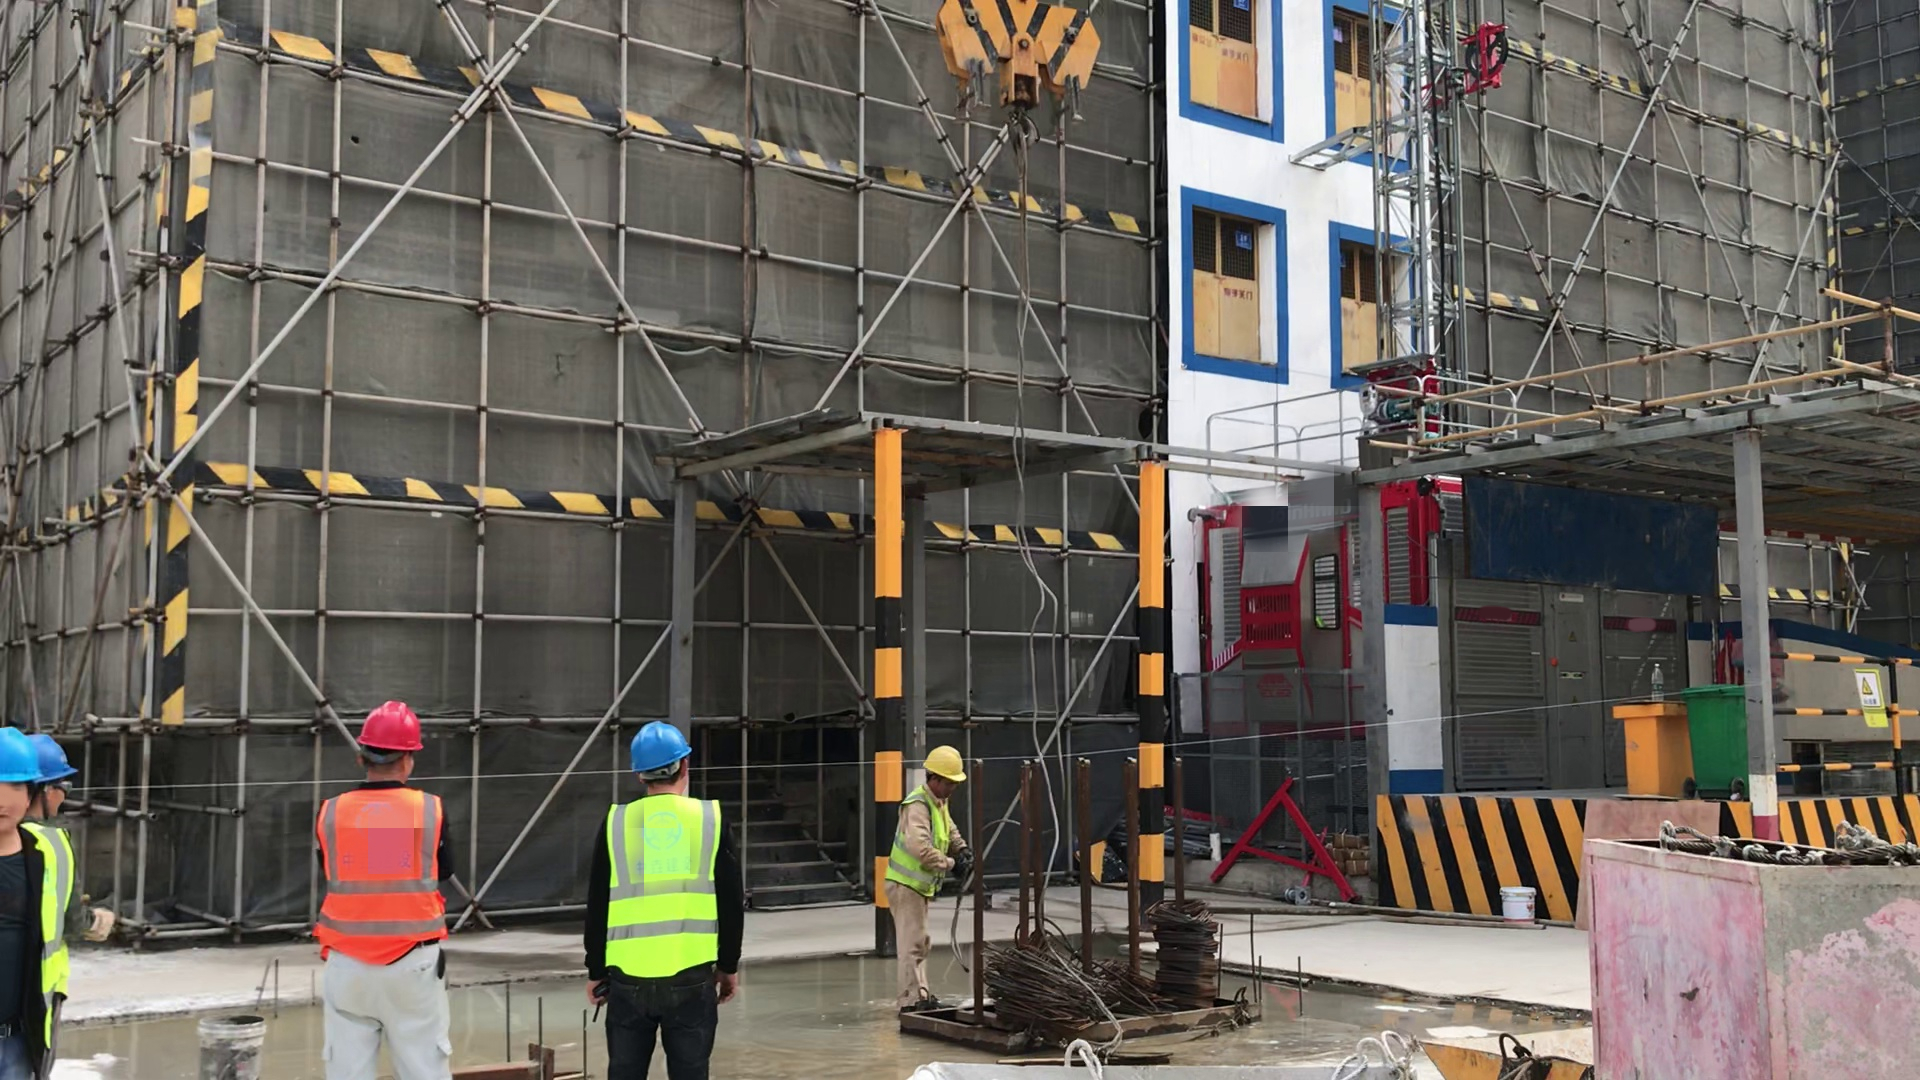ebox: (1617, 701, 1683, 793)
helmet: (356, 699, 423, 754), (630, 722, 692, 770), (27, 730, 77, 781), (1, 724, 42, 784), (925, 744, 965, 782)
hook: (939, 1, 1102, 151)
hopper: (1442, 1019, 1597, 1077)
person: (312, 696, 453, 1080), (589, 723, 735, 1080), (2, 727, 58, 1080), (894, 743, 959, 1018), (29, 733, 69, 1064)
slogan: (1850, 668, 1883, 724)
vest: (324, 789, 440, 965), (609, 801, 720, 973), (898, 797, 954, 888), (33, 829, 62, 999)
